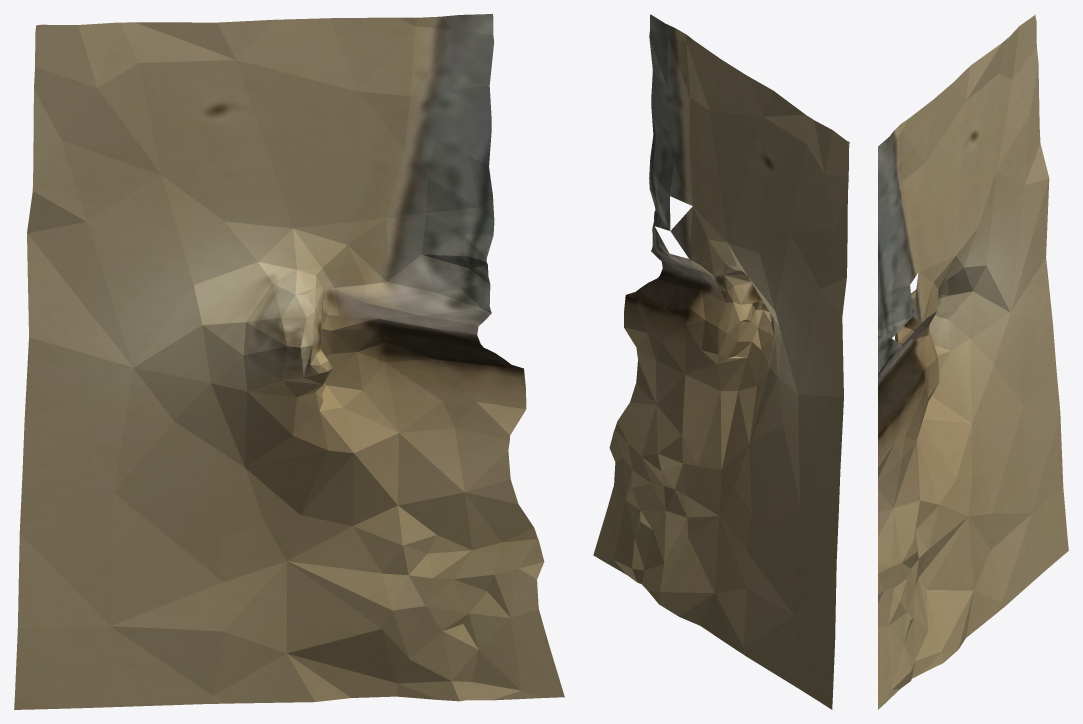
3 views of the same model, side by side, from view 1: azimuth 30°, elevation 25°; view 2: azimuth 150°, elevation 25°; view 3: azimuth 270°, elevation 25° (orthographic). The views are drawn at different scales.
Bounding box in the file's own units: 1.07 × 1.67 × 0.5398.
2 materials, 2 textured.
